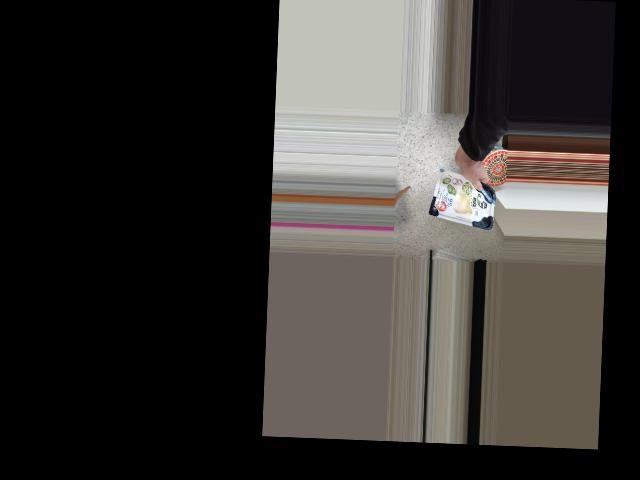cheese: (427, 174, 500, 225)
